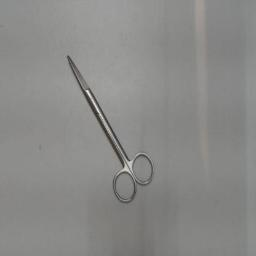Curved Mayo Scissors: (62, 50, 158, 210)
